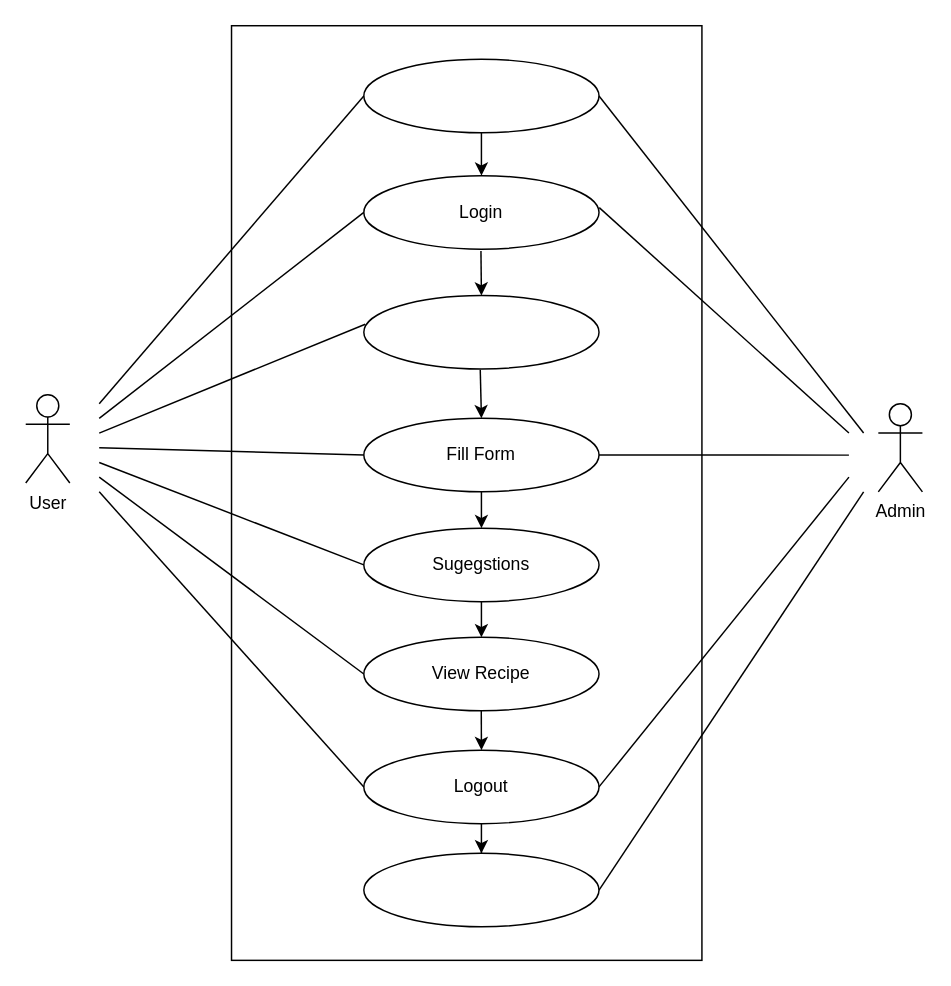
Some shapes in this 951 by 986 pixel diagram are drawn without their labels. The centre of each missing label's shape, as x and y in pixels:
Manage Recipes/Content: the point at 480,889
Register: the point at 480,95
Search: the point at 480,331
